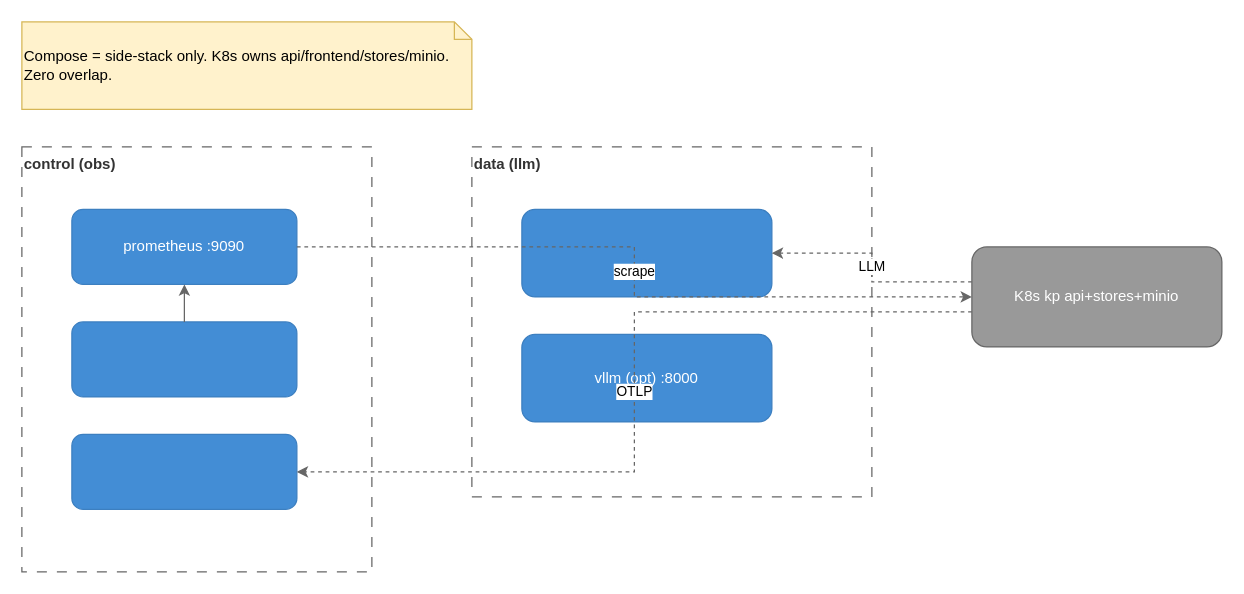
Image size: 1244x594. Some labels were removed from this diagram. Each missing label, with the centre of its shape:
"grafana :3000" goes at [184,359].
"jaeger :16686" goes at [184,471].
"ollama :11434 mem 3g" goes at [646,252].
